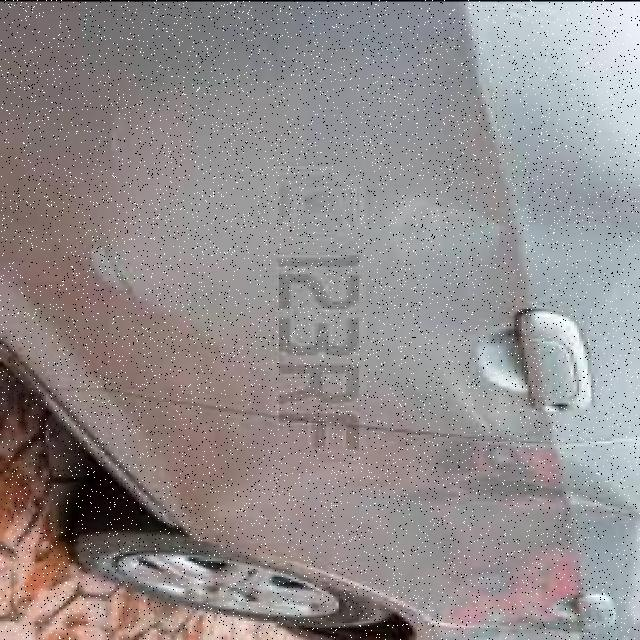damage: (73, 89, 636, 393), (400, 458, 632, 535)
